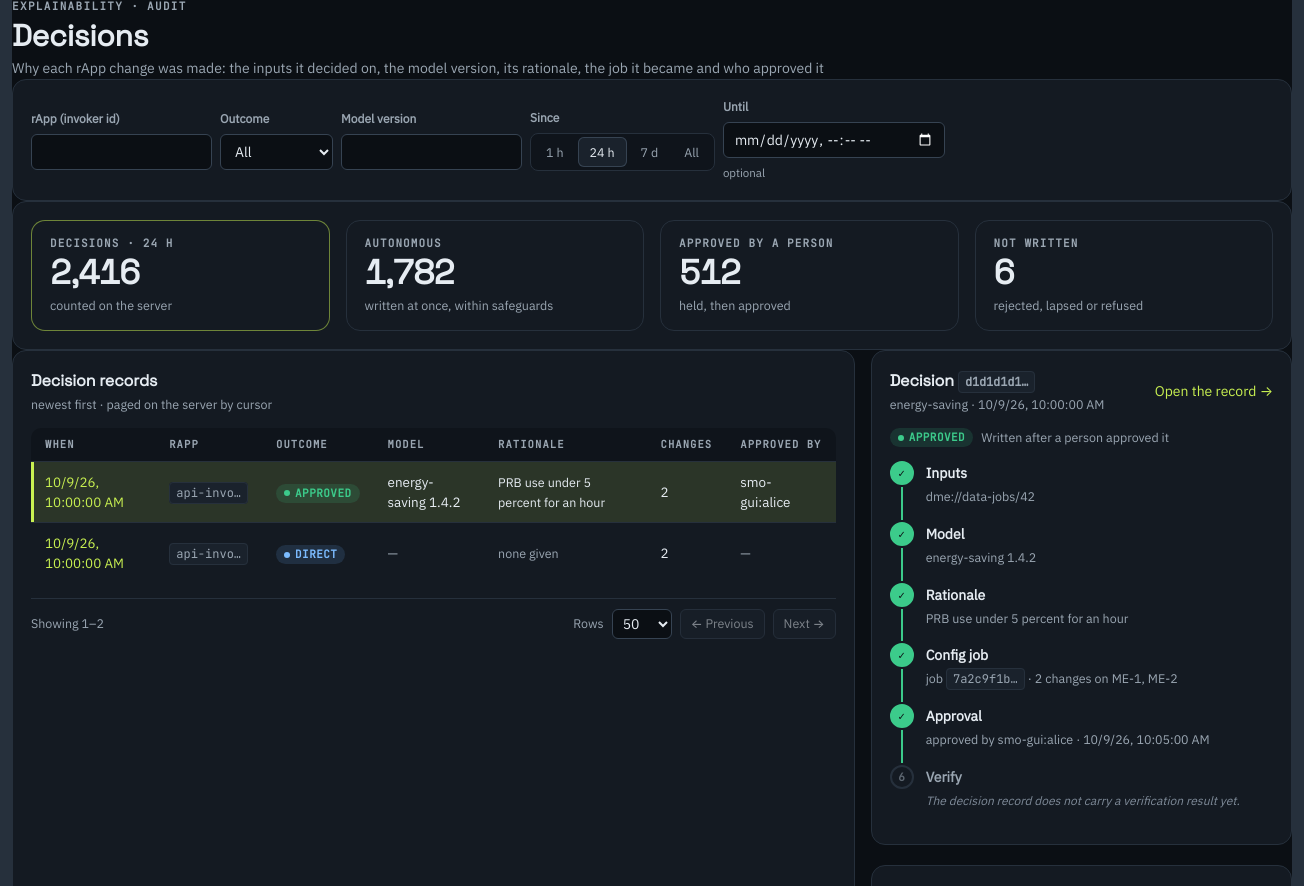
Test case: the decision panel › selects the first row, and selecting another row updates the chain and its integrity
The image size is (1304, 886).
Check: the text "approved by smo-gui:alice" is shown, box top-left (926, 731), bottom-right (1210, 747)
Check: the number of list items is 6, box top-left (890, 461), bottom-right (1035, 504); top-left (890, 522), bottom-right (1036, 565); top-left (890, 583), bottom-right (1128, 626); top-left (890, 643), bottom-right (1178, 690); top-left (890, 704), bottom-right (1210, 747); top-left (890, 765), bottom-right (1273, 826)
Step 1. Click the row "10/9/26, 10:00:00 AM api-invo… DIRECT — none given 2 —" → click(209, 554), box top-left (31, 523), bottom-right (836, 584)
(page scrolled)
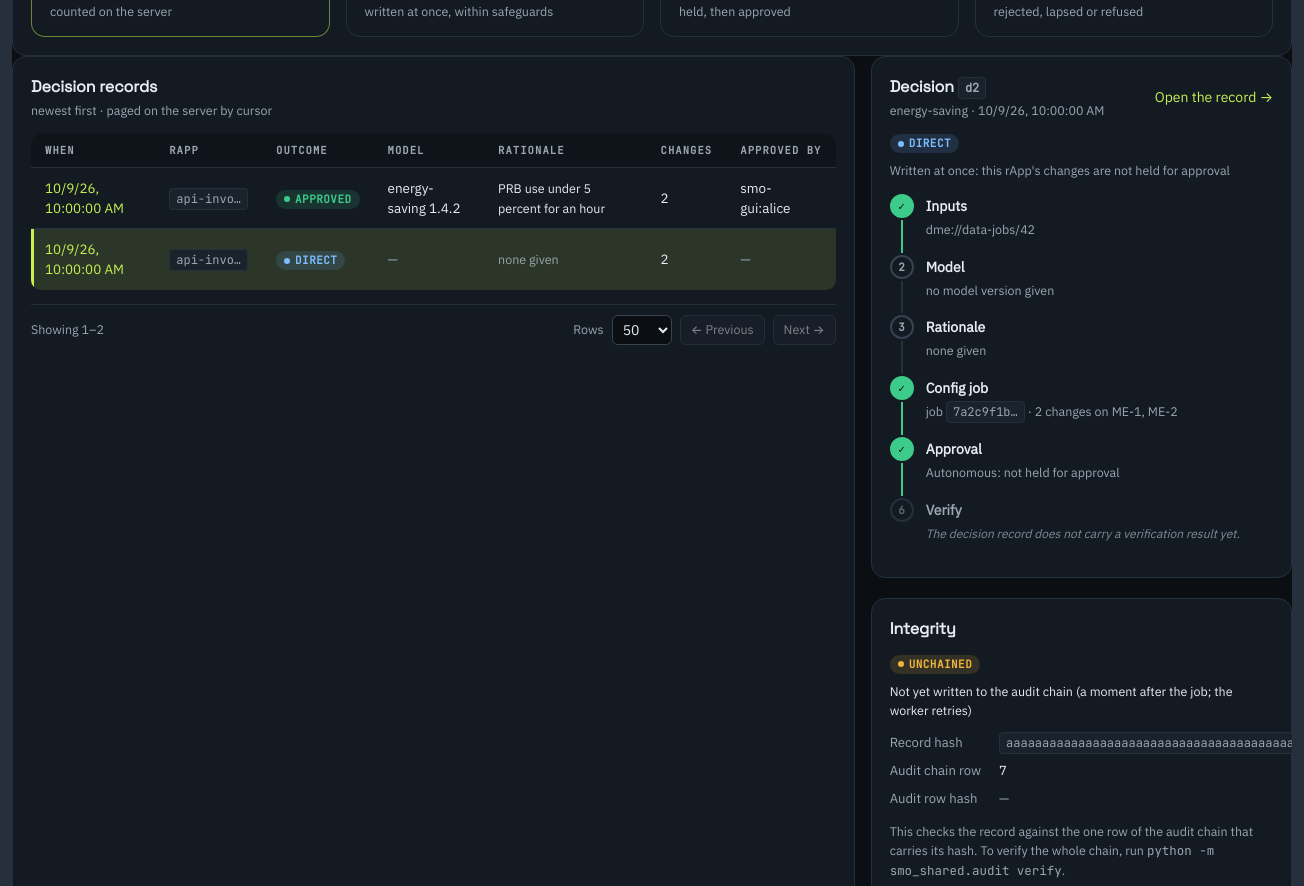
Check: the text "Autonomous: not held for approval" is shown, box top-left (926, 464), bottom-right (1120, 480)
Check: the text "none given" is shown, box top-left (926, 342), bottom-right (986, 358)
Check: the message shows "UNCHAINED", box top-left (909, 657), bottom-right (972, 671)
